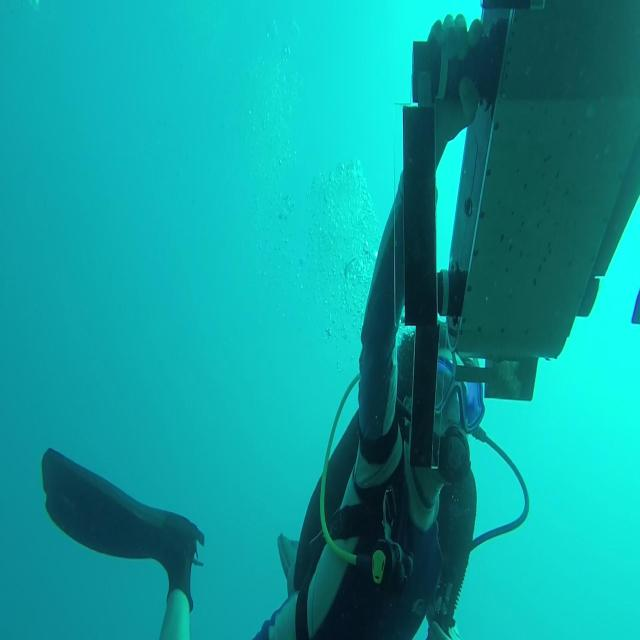human: (251, 12, 507, 638)
